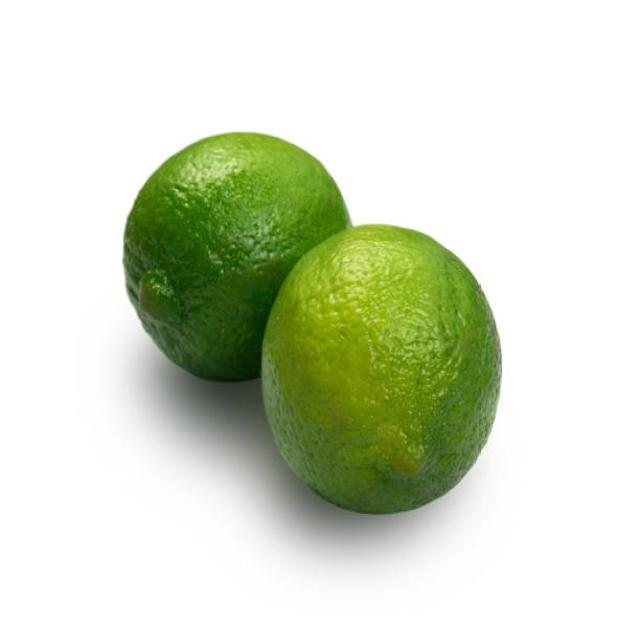Unripe: (264, 223, 501, 514), (120, 130, 351, 380)
